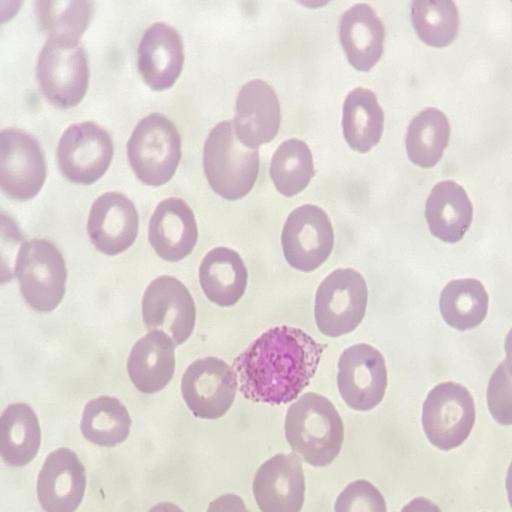Infected: (223, 325, 332, 404)
Uninfected: (203, 120, 261, 203), (127, 112, 181, 190), (287, 389, 342, 465), (313, 266, 370, 339), (37, 30, 90, 106), (16, 238, 66, 315), (280, 203, 337, 270), (141, 275, 194, 346), (421, 380, 474, 451), (54, 120, 113, 183), (181, 355, 237, 421), (87, 192, 140, 257), (199, 243, 251, 306), (340, 0, 386, 71), (0, 126, 43, 201), (339, 343, 388, 408), (139, 19, 183, 91), (36, 448, 85, 512), (426, 178, 474, 243), (254, 450, 304, 512), (233, 80, 280, 145), (150, 198, 198, 260), (404, 103, 449, 169), (130, 330, 174, 397), (341, 88, 385, 155), (270, 138, 319, 196), (0, 399, 40, 468), (439, 275, 490, 328), (81, 395, 132, 445), (411, 0, 460, 48)
